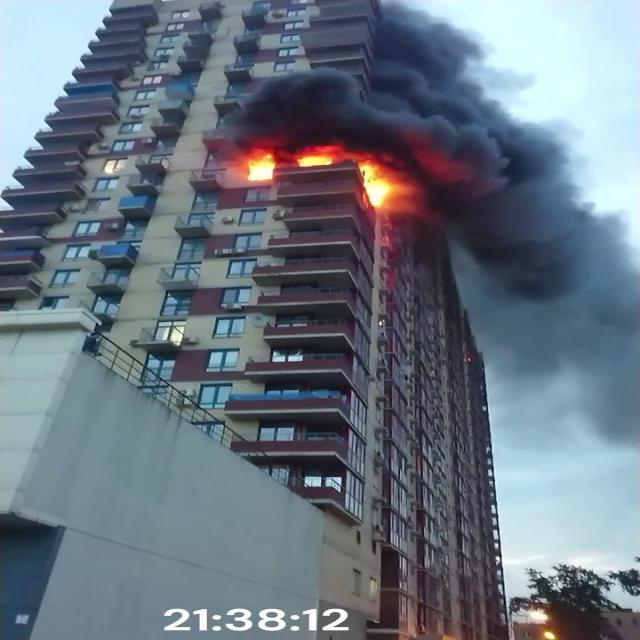Fire: (234, 144, 346, 180), (358, 160, 398, 210)
Smoke: (426, 107, 638, 427), (218, 0, 596, 170)
